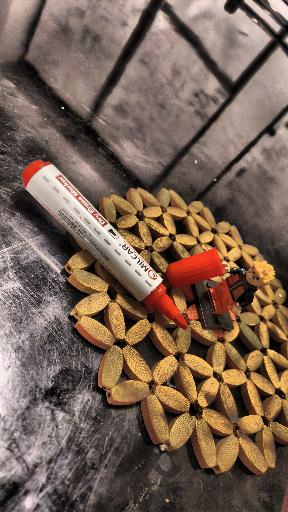marcador rojo: (22, 160, 187, 328)
